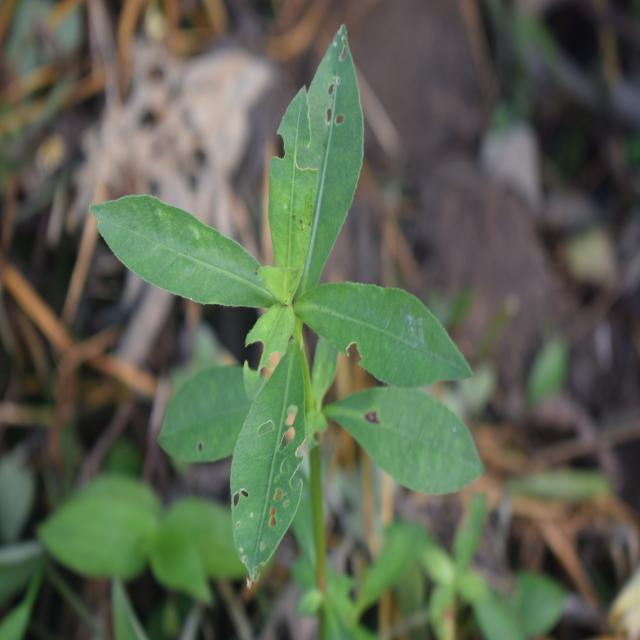Alligatorweed: (116, 81, 462, 571)
